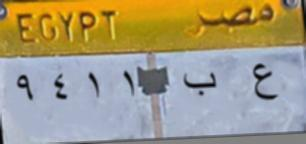1: (82, 68, 104, 104), (118, 66, 138, 105)
4: (50, 73, 71, 103)
9: (14, 68, 38, 105)
ain: (245, 60, 276, 108)
baa: (179, 70, 222, 101)
